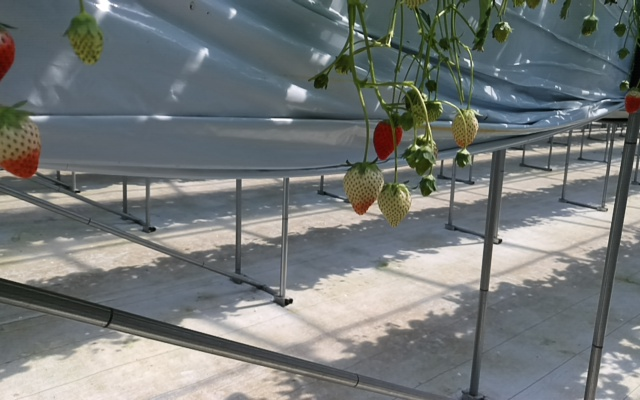GreenStrawberry: (339, 160, 385, 216), (67, 13, 106, 68), (376, 182, 412, 230), (451, 109, 481, 150), (410, 90, 431, 126), (424, 102, 442, 122)
MatureStrawberry: (1, 106, 43, 178), (372, 114, 402, 164), (624, 87, 640, 118)
